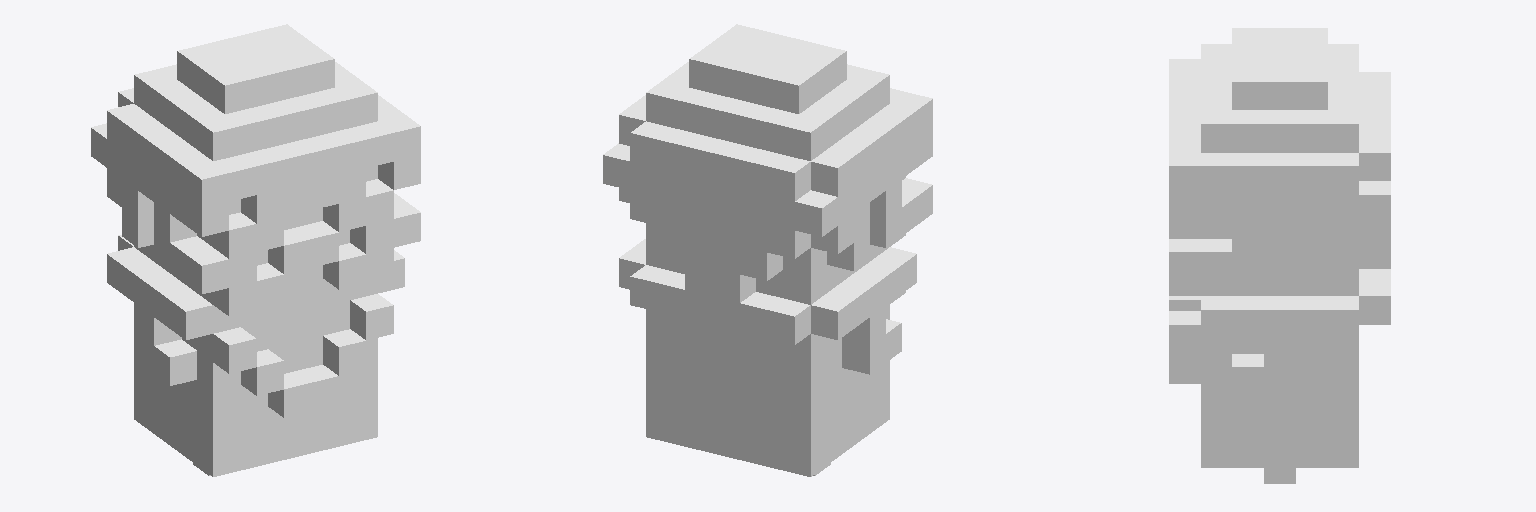
The model's file is ama003-0.obj.
3 renders of one model, left to right at view 1: azimuth 30°, elevation 25°; view 2: azimuth 150°, elevation 25°; view 3: azimuth 270°, elevation 25°, orthographic.
Visible parts, largest first — view 1: ama003-0; view 2: ama003-0; view 3: ama003-0.
Boxes of the visible parts, box(x1,y1,x2,y2) form: ama003-0: box(91, 24, 420, 476); ama003-0: box(603, 24, 932, 476); ama003-0: box(1169, 28, 1390, 483).
Bounding box in the file's own units: 8 × 14 × 7.